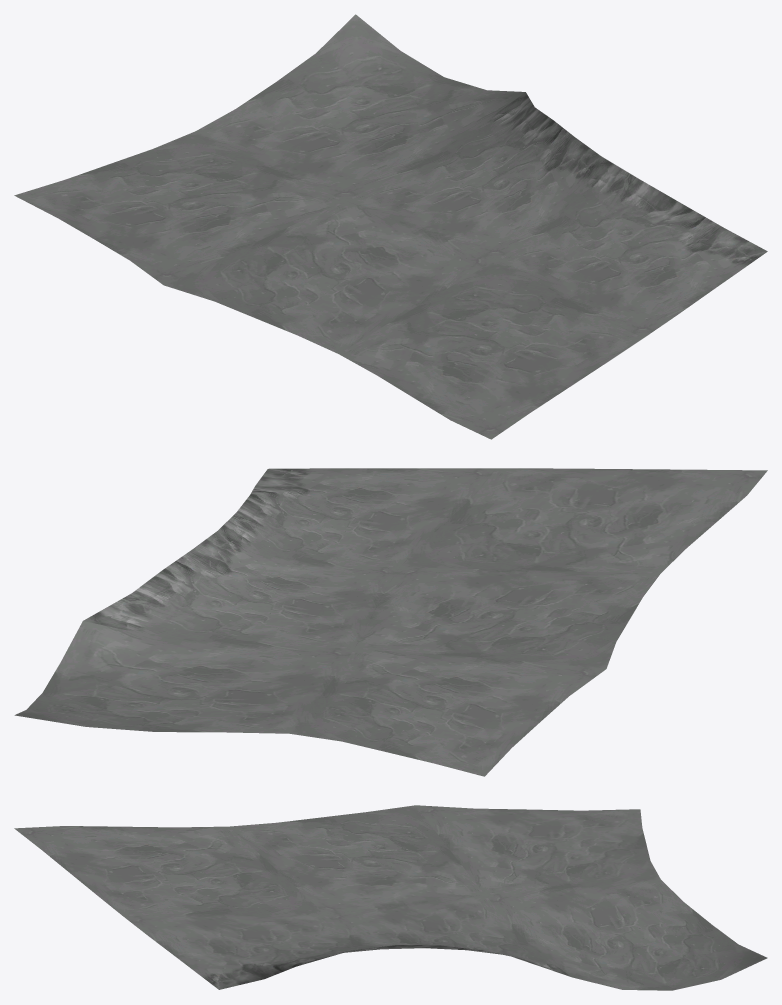
File: SWORDLIGHT20_PS-AREA04_13.fbx
3 renders of one model, top to bottom at view 1: azimuth 30°, elevation 25°; view 2: azimuth 150°, elevation 25°; view 3: azimuth 270°, elevation 25°, orthographic. The views are drawn at different scales.
Parts seen in each view (by area): view 1: SWORDLIGHT20_PS-AREA04_13; view 2: SWORDLIGHT20_PS-AREA04_13; view 3: SWORDLIGHT20_PS-AREA04_13.
Part boxes in pixels (x1,y1,x2,y2): SWORDLIGHT20_PS-AREA04_13: [14, 14, 767, 439]; SWORDLIGHT20_PS-AREA04_13: [14, 468, 767, 776]; SWORDLIGHT20_PS-AREA04_13: [14, 805, 767, 990].
Bounding box in the file's own units: 115426 × 11169 × 190268.
2 materials, 2 textured.
